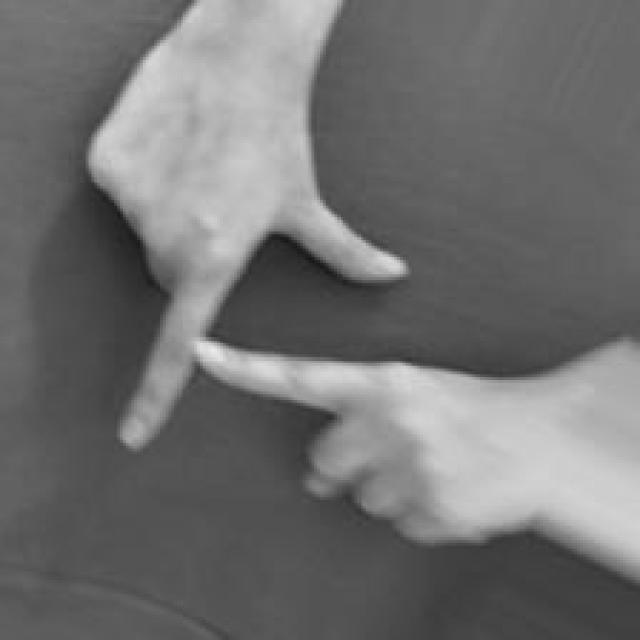F: (84, 2, 541, 548)
